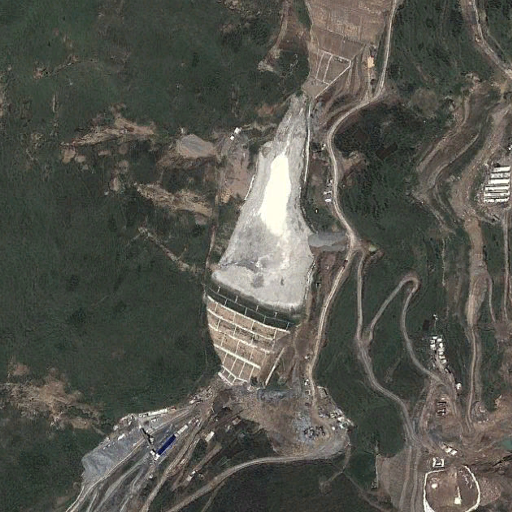tp: (176, 93, 317, 385)
